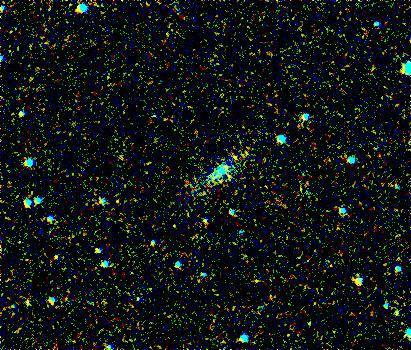star: (156, 211, 186, 241)
